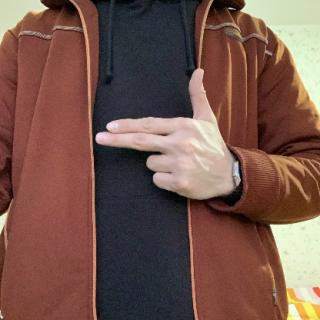GHAYN: (88, 64, 234, 204)
